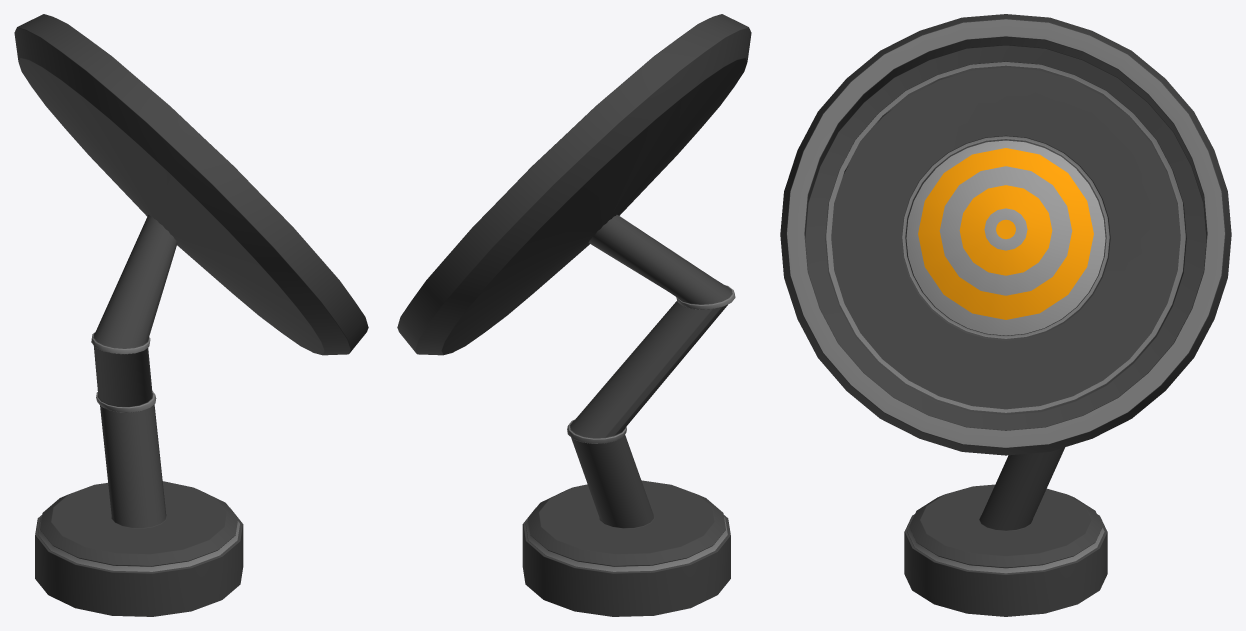
The model's file is SM_Satellite_02.fbx.
The picture shows the model from 3 angles, left to right: view 1: azimuth 30°, elevation 25°; view 2: azimuth 150°, elevation 25°; view 3: azimuth 270°, elevation 25°; orthographic projection. The views are drawn at different scales.
Parts seen in each view (by area): view 1: Satelite_02; view 2: Satelite_02; view 3: Satelite_02.
Boxes of the visible parts, left/top/right/bottom form: Satelite_02: left=14, top=14, right=368, bottom=616; Satelite_02: left=397, top=14, right=751, bottom=616; Satelite_02: left=780, top=14, right=1231, bottom=616.
Bounding box in the file's own units: 386 × 735 × 567.
